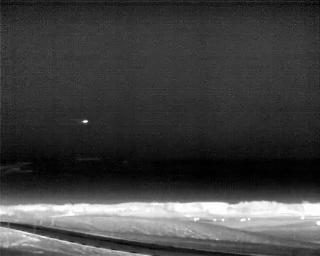BIRD: (80, 116, 90, 127)
